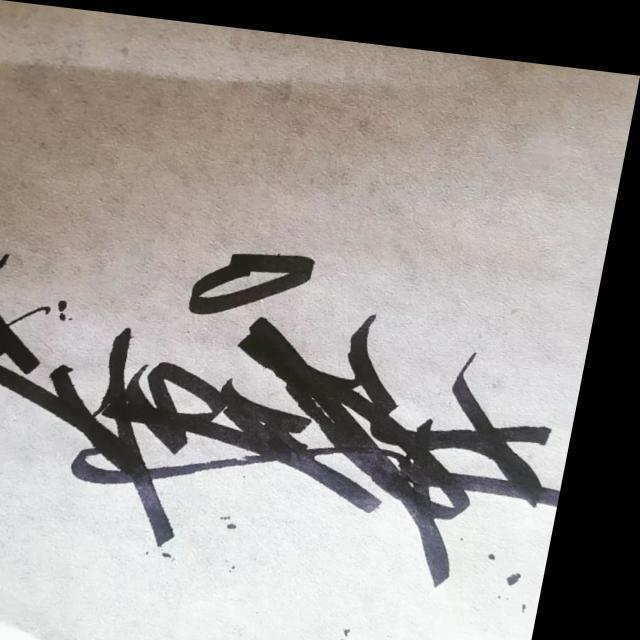-: (0, 190, 611, 608)
